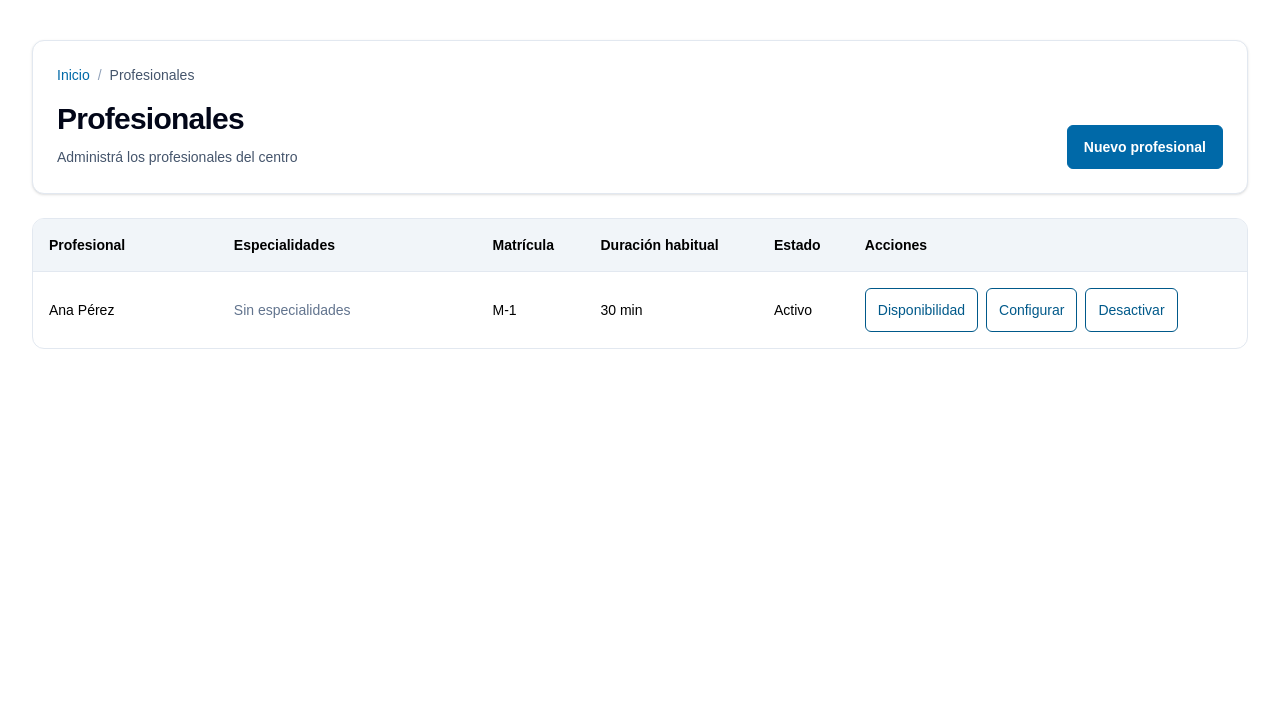
Test: ProfessionalsScreen › closes clean configuration directly with X
Step 1. Click the button "Configurar" → point(1032, 310), box [986,288,1077,332]
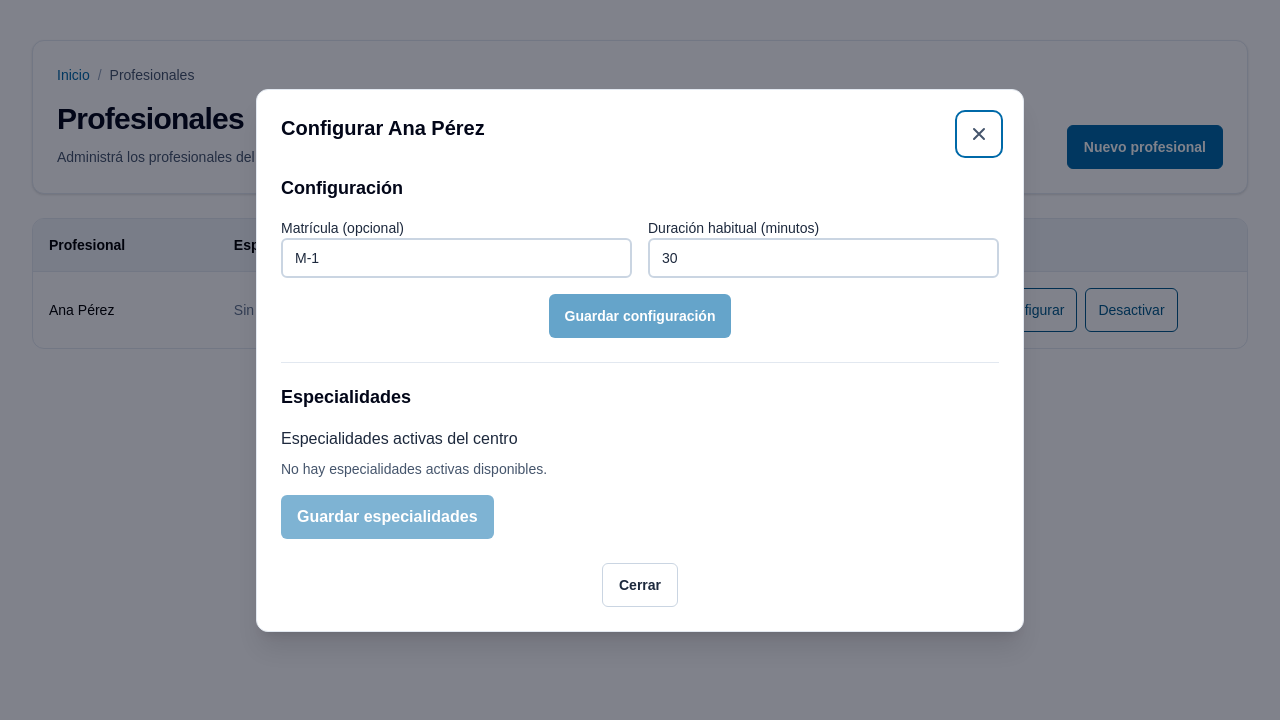
Step 2. Click the button named "Cerrar" → point(979, 134), box [959,114,999,154]
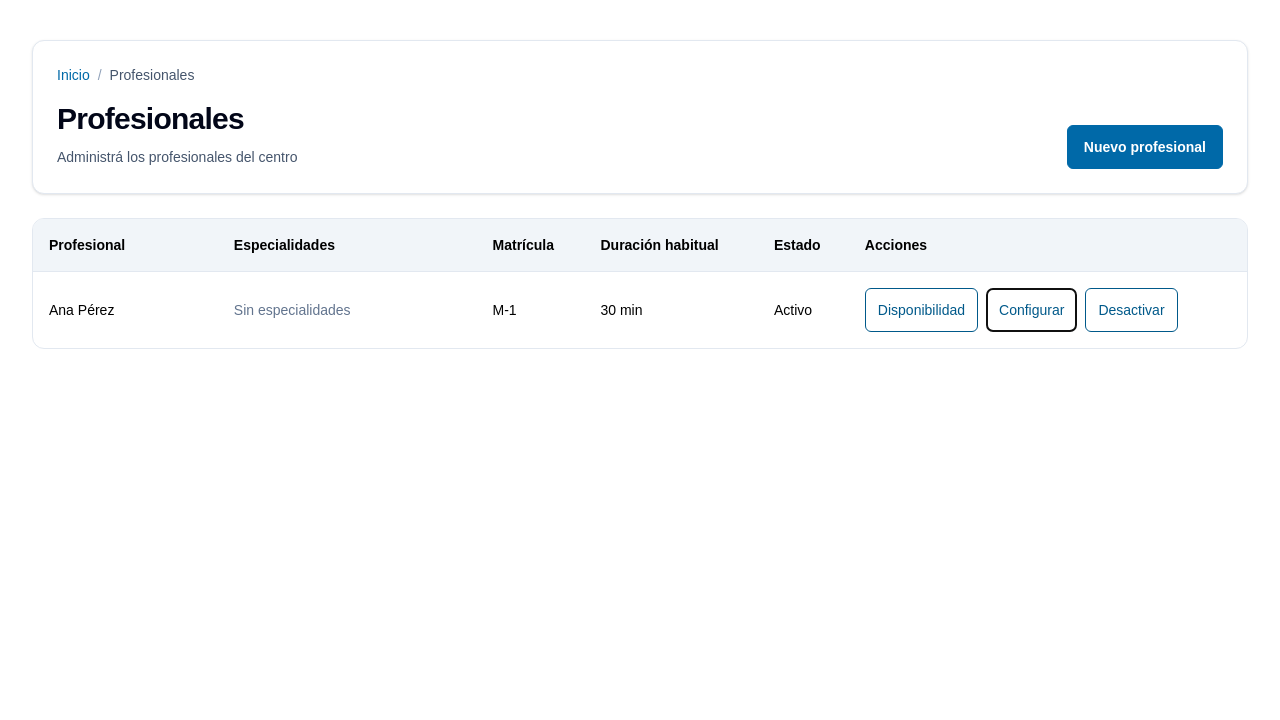
Result: the dialog is gone
